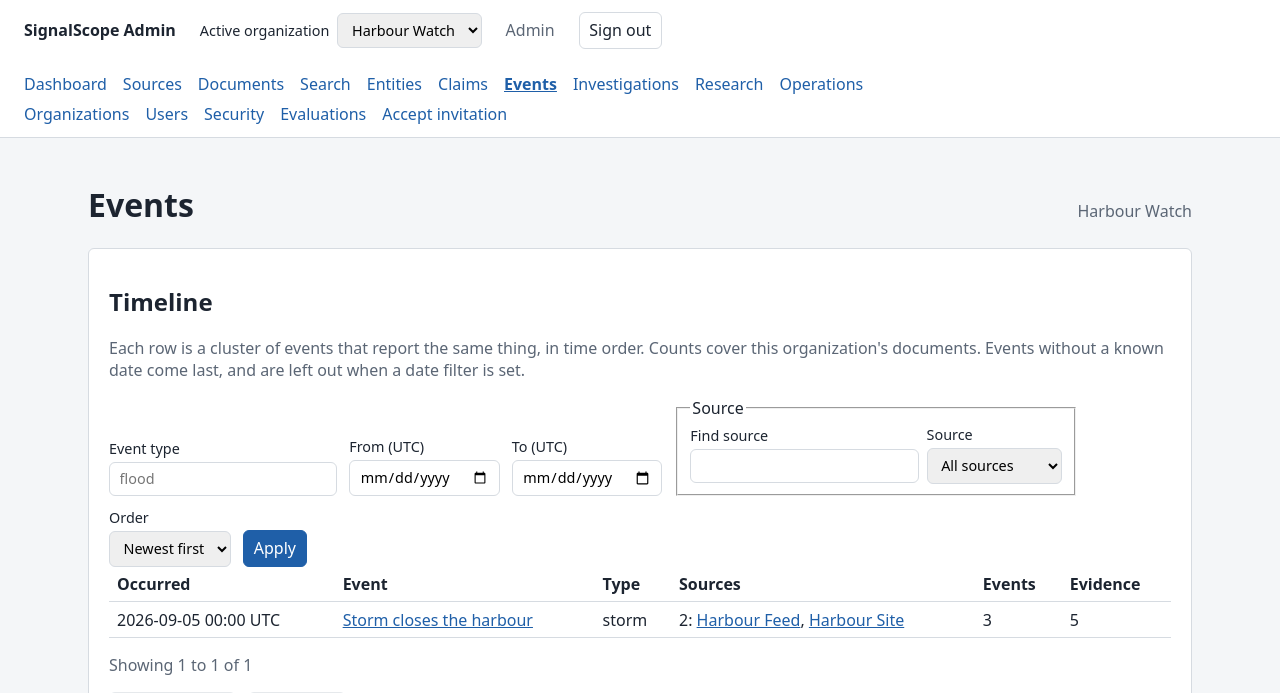
Scenario: event timeline › drops the old organization's events when switching
This screenshot has width=1280, height=693.
Check: the link "Storm closes the harbour" is shown, box [343,609,533,631]
Select "River Desk" in the dropdown labelled "Active organization": [410, 30] box [337,12,482,48]
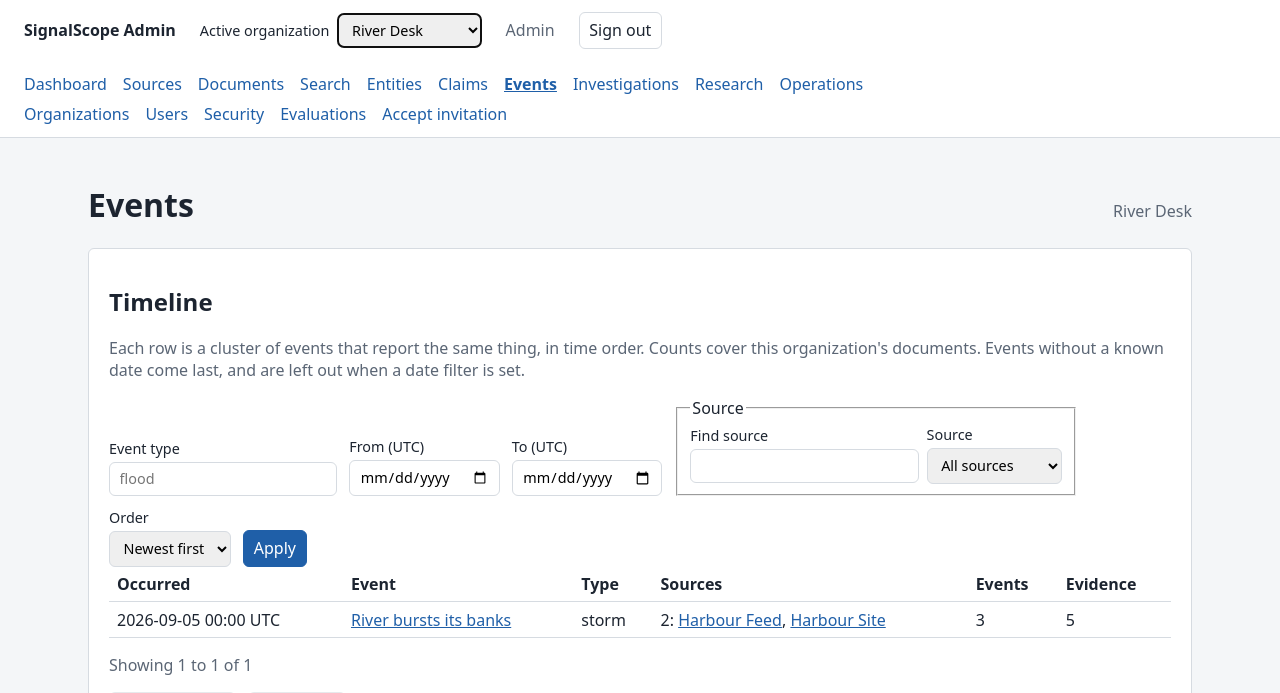
Check: the link "Storm closes the harbour" is gone
Check: the link "River bursts its banks" is shown, box [351,609,511,631]
